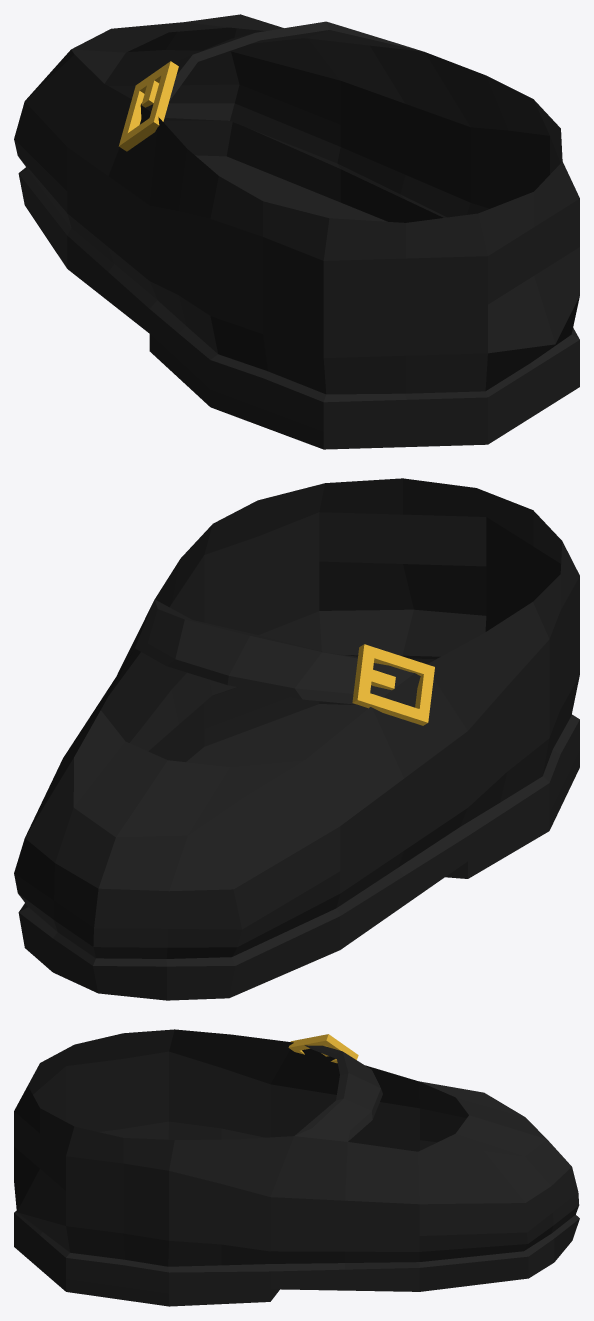
The model's file is maryjanesleftold.fbx.
3 views of the same model, one above another, from view 1: azimuth 30°, elevation 25°; view 2: azimuth 150°, elevation 25°; view 3: azimuth 270°, elevation 25° (orthographic). The views are drawn at different scales.
Parts seen in each view (by area): view 1: left.001; view 2: left.001; view 3: left.001.
Boxes of the visible parts, left/top/right/bottom form: left.001: left=14, top=14, right=579, bottom=449; left.001: left=14, top=478, right=579, bottom=1000; left.001: left=14, top=1029, right=579, bottom=1306.
Size of the model in its own units: 44.79 by 15.62 by 22.33.
